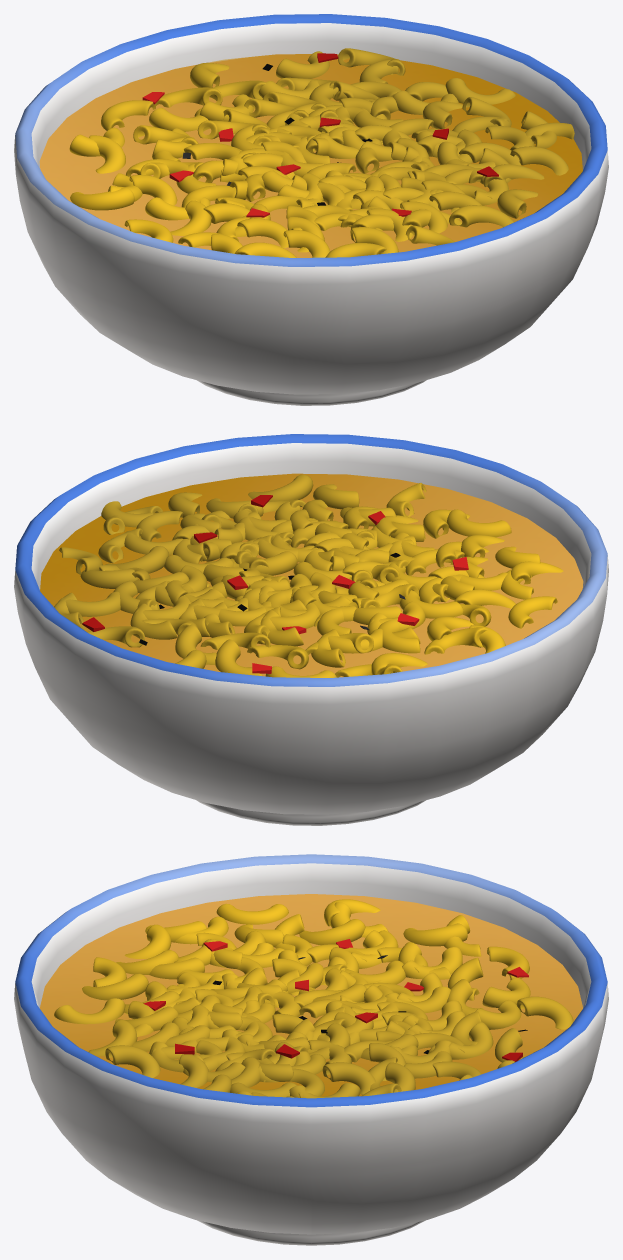
The model's file is MacnCheese.glb.
3 renders of one model, top to bottom at view 1: azimuth 30°, elevation 25°; view 2: azimuth 150°, elevation 25°; view 3: azimuth 270°, elevation 25°, orthographic.
Visible parts, largest first — view 1: Cube.064; view 2: Cube.064; view 3: Cube.064.
Boxes of the visible parts, left/top/right/bottom form: Cube.064: left=14, top=14, right=608, bottom=405; Cube.064: left=14, top=434, right=608, bottom=825; Cube.064: left=14, top=854, right=608, bottom=1245.
Size of the model in its own units: 0.3121 by 0.1241 by 0.3121.
1 material, 1 textured.
